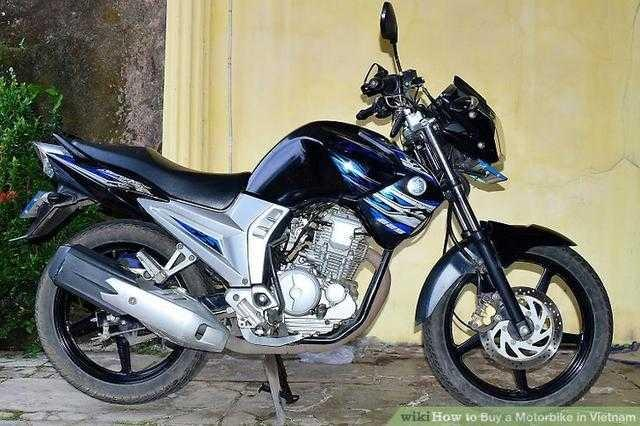motorbike: (22, 78, 621, 416)
